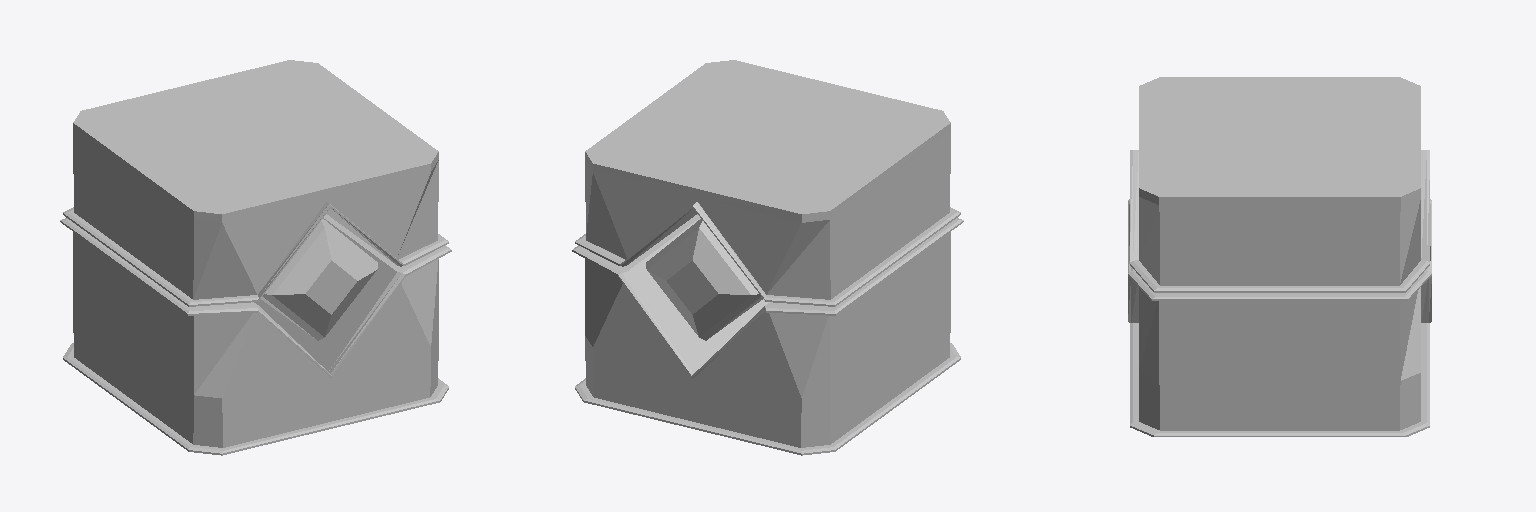
File: pillar-6.obj
The picture shows the model from 3 angles: view 1: azimuth 30°, elevation 25°; view 2: azimuth 150°, elevation 25°; view 3: azimuth 270°, elevation 25°; orthographic projection.
Parts seen in each view (by area): view 1: cube2; view 2: cube2; view 3: cube2.
Part boxes in pixels (bbox=[...]): cube2: bbox=[60, 60, 451, 455]; cube2: bbox=[572, 60, 963, 455]; cube2: bbox=[1128, 77, 1431, 436].
Size of the model in its own units: 1.05 by 0.9089 by 1.05.